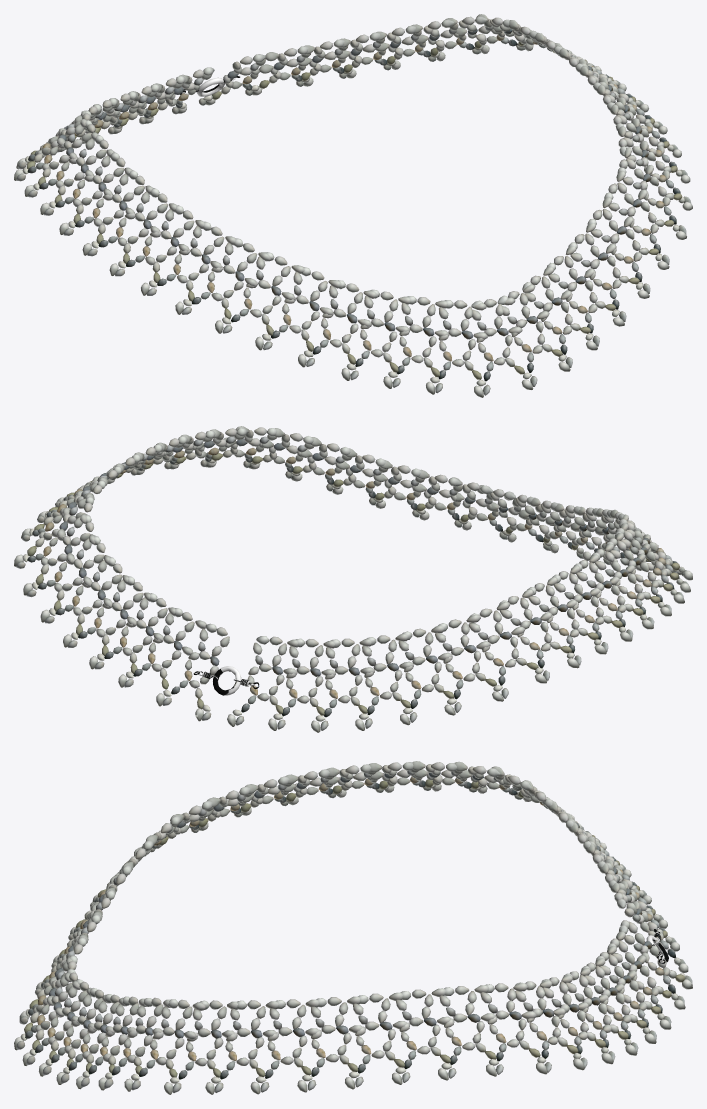
File: collar 2.fbx
3 views of the same model, one above another, from view 1: azimuth 30°, elevation 25°; view 2: azimuth 150°, elevation 25°; view 3: azimuth 270°, elevation 25° (orthographic). The views are drawn at different scales.
Visible parts, largest first — view 1: polySurface130Shape_MASH4_Instancer_0_phong3_0; view 2: polySurface130Shape_MASH4_Instancer_0_phong3_0; view 3: polySurface130Shape_MASH4_Instancer_0_phong3_0.
Boxes of the visible parts, x1,y1,x2,y2 form: polySurface130Shape_MASH4_Instancer_0_phong3_0: (14, 14, 692, 397); polySurface130Shape_MASH4_Instancer_0_phong3_0: (14, 426, 692, 732); polySurface130Shape_MASH4_Instancer_0_phong3_0: (14, 761, 692, 1094).
Size of the model in its own units: 2617 by 701 by 2535.
2 materials, 2 textured.
